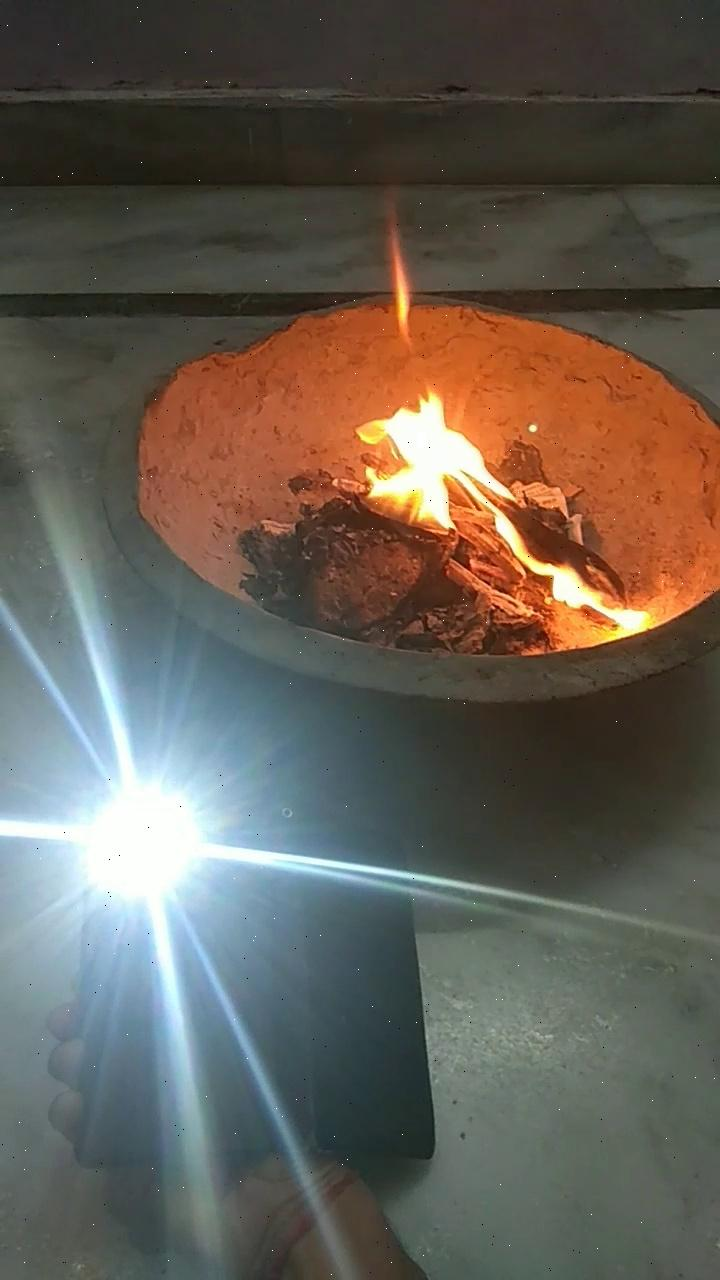fire: (364, 380, 630, 616)
